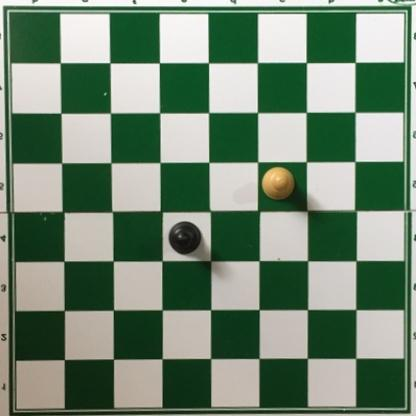black-pawn: (167, 219, 203, 256)
white-pawn: (260, 167, 298, 203)
